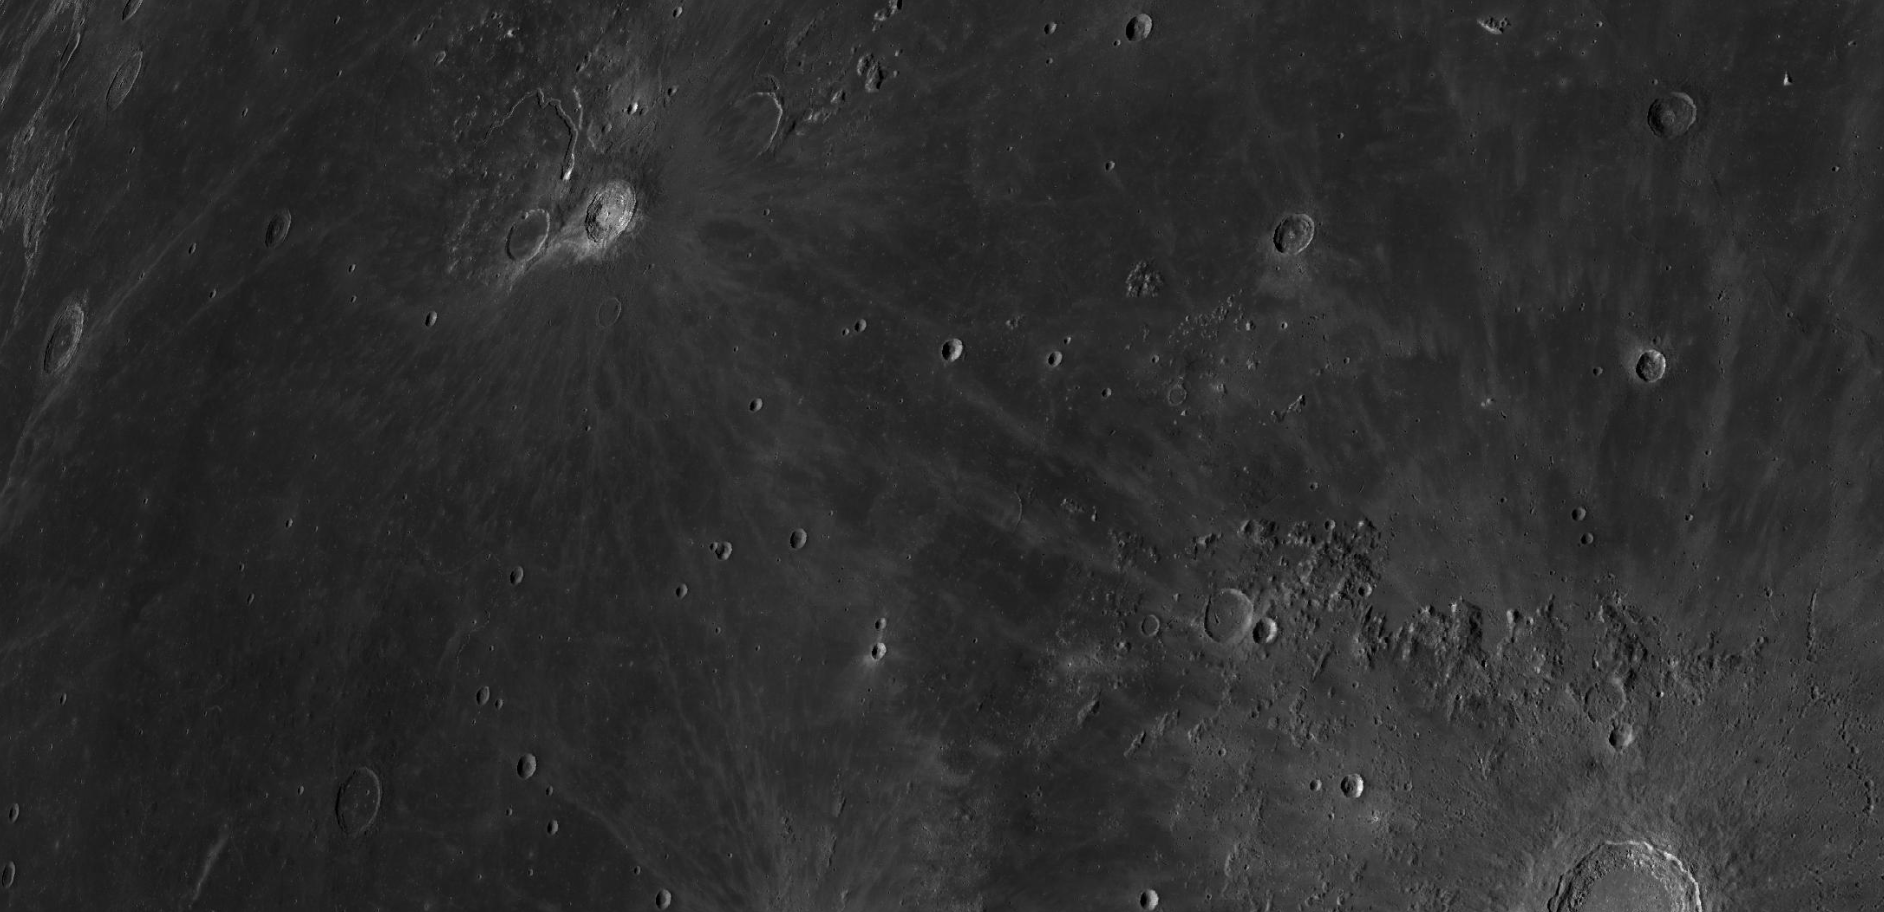crater: (1600, 293, 1746, 427), (1262, 195, 1395, 304), (1617, 72, 1734, 184), (306, 725, 416, 844), (231, 187, 329, 306), (99, 41, 202, 154), (910, 296, 997, 399), (38, 285, 117, 400), (463, 187, 553, 287), (571, 169, 658, 267), (1121, 2, 1203, 72), (1335, 750, 1405, 821), (758, 495, 813, 577), (735, 372, 791, 436), (591, 285, 643, 340)
